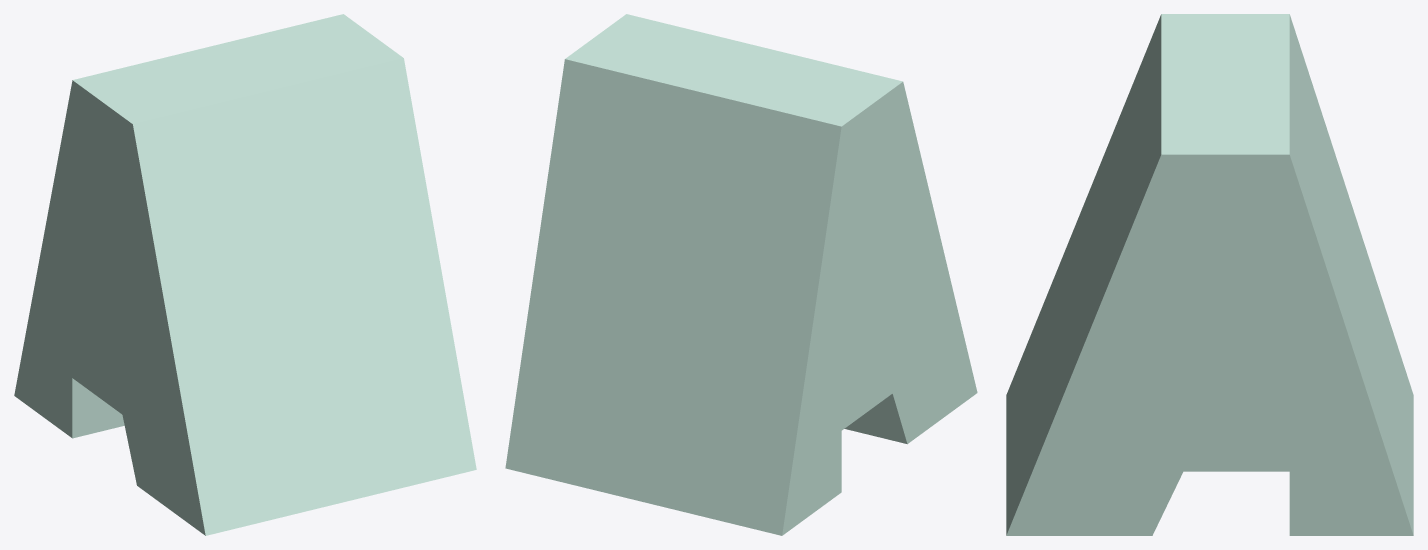
The picture shows the model from 3 angles, left to right: view 1: azimuth 30°, elevation 25°; view 2: azimuth 150°, elevation 25°; view 3: azimuth 270°, elevation 25°; orthographic projection. The views are drawn at different scales.
Visible parts, largest first — view 1: Renderer Node; view 2: Renderer Node; view 3: Renderer Node.
Boxes of the visible parts, box(x1,y1,x2,y2) form: Renderer Node: box(14, 14, 476, 535); Renderer Node: box(505, 14, 977, 535); Renderer Node: box(1006, 14, 1413, 535).
Size of the model in its own units: 0.5938 by 0.75 by 0.7263.
